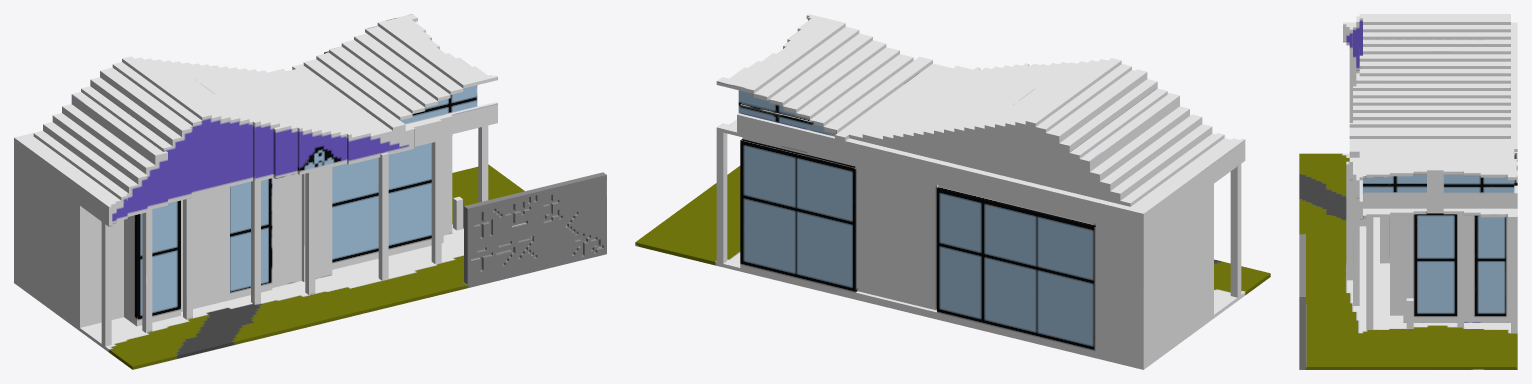
Rendered from kazeterasu.glb.
3 views of the same model, side by side, from view 1: azimuth 30°, elevation 25°; view 2: azimuth 150°, elevation 25°; view 3: azimuth 270°, elevation 25° (orthographic). The views are drawn at different scales.
Parts seen in each view (by area): view 1: kazeterasu; view 2: kazeterasu; view 3: kazeterasu.
Boxes of the visible parts, x1,y1,x2,y2 form: kazeterasu: [14, 14, 606, 369]; kazeterasu: [635, 14, 1270, 369]; kazeterasu: [1299, 14, 1517, 369].
Bounding box in the file's own units: 3 × 1.22 × 1.3.
Materials: 1 (1 with a texture image).
